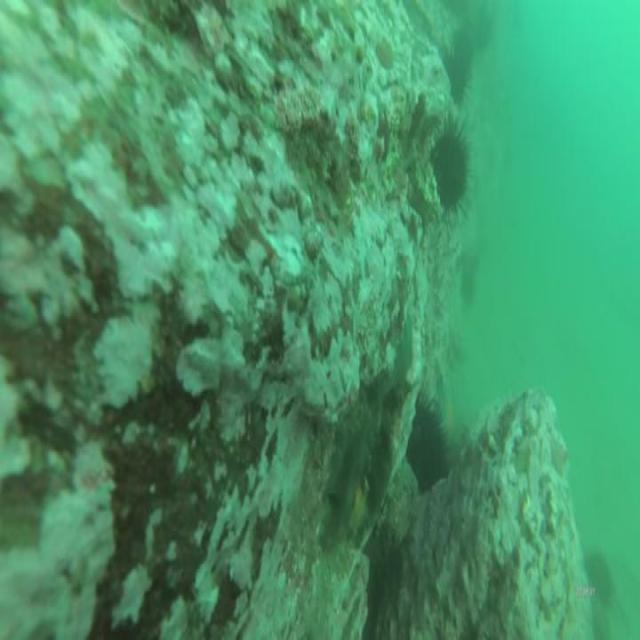echinus: (429, 108, 473, 228), (407, 392, 453, 498), (583, 552, 617, 612), (438, 49, 468, 107), (450, 23, 474, 84)
